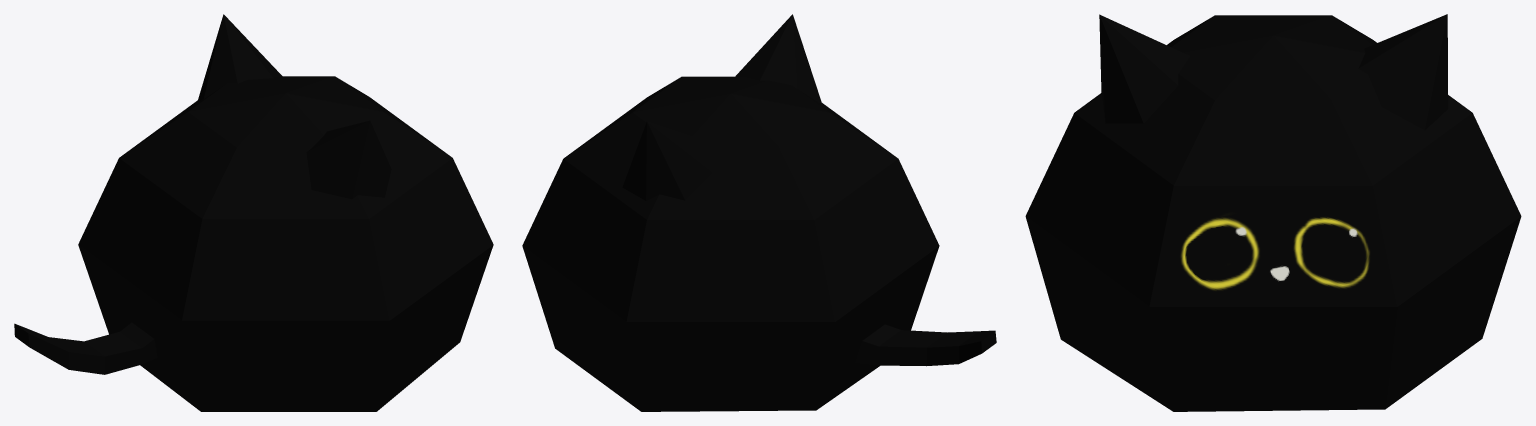
File: inamow.glb
3 views of the same model, side by side, from view 1: azimuth 30°, elevation 25°; view 2: azimuth 150°, elevation 25°; view 3: azimuth 270°, elevation 25° (orthographic). The views are drawn at different scales.
Parts seen in each view (by area): view 1: Sphere, Cone.001, Cube, Cone; view 2: Sphere, Cone, Cube, Cone.001; view 3: Sphere, Cone, Cone.001.
Part boxes in pixels (bbox=[...]): Sphere: bbox=[78, 76, 493, 411]; Cone.001: bbox=[306, 120, 391, 199]; Cube: bbox=[14, 322, 157, 374]; Cone: bbox=[197, 14, 282, 101]; Sphere: bbox=[522, 76, 939, 411]; Cone: bbox=[622, 121, 712, 200]; Cube: bbox=[855, 324, 996, 366]; Cone.001: bbox=[735, 14, 822, 104]; Sphere: bbox=[1025, 15, 1521, 411]; Cone: bbox=[1358, 14, 1448, 130]; Cone.001: bbox=[1099, 14, 1189, 123].
Size of the model in its own units: 2.51 by 1.76 by 2.17.
Materials: 4 (4 with a texture image).
